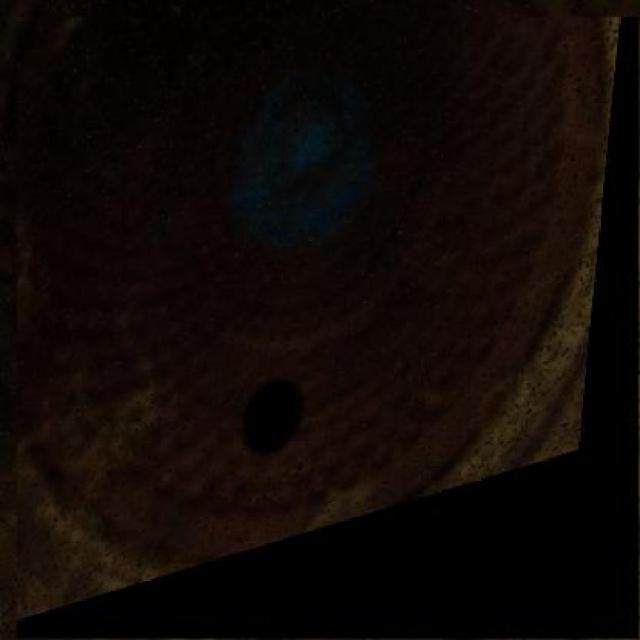Manhole: (16, 18, 638, 640)
